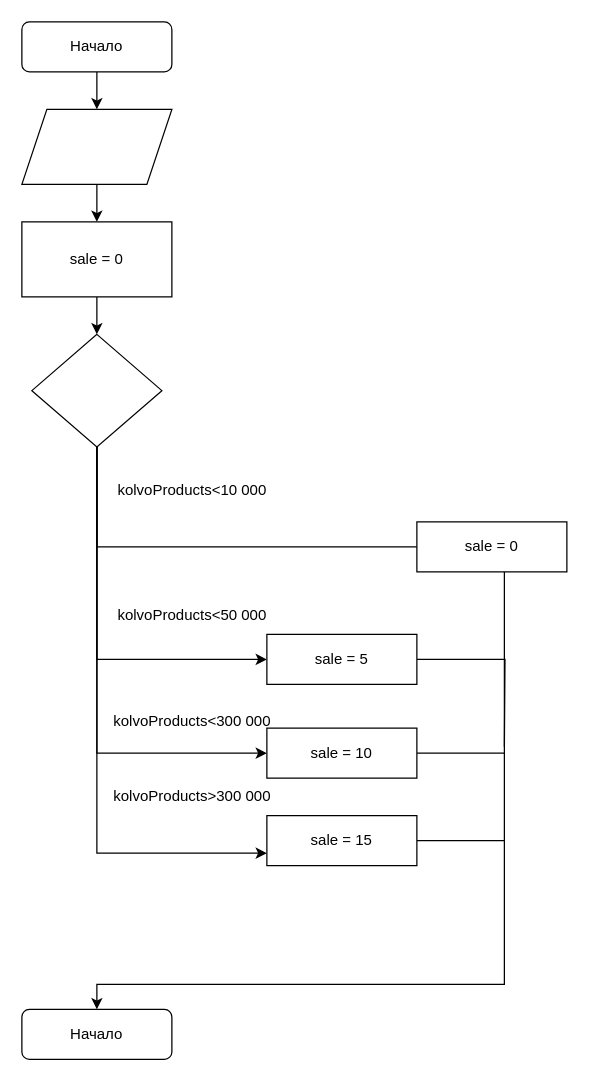
Image size: 589x1081. Some labels were removed from this diagram. Here are the shapes that lost their labels. From the top down, the centre of each, then its label:
At (x=96, y=146): "kolvoProd".
At (x=96, y=390): "kolvoProducts".
